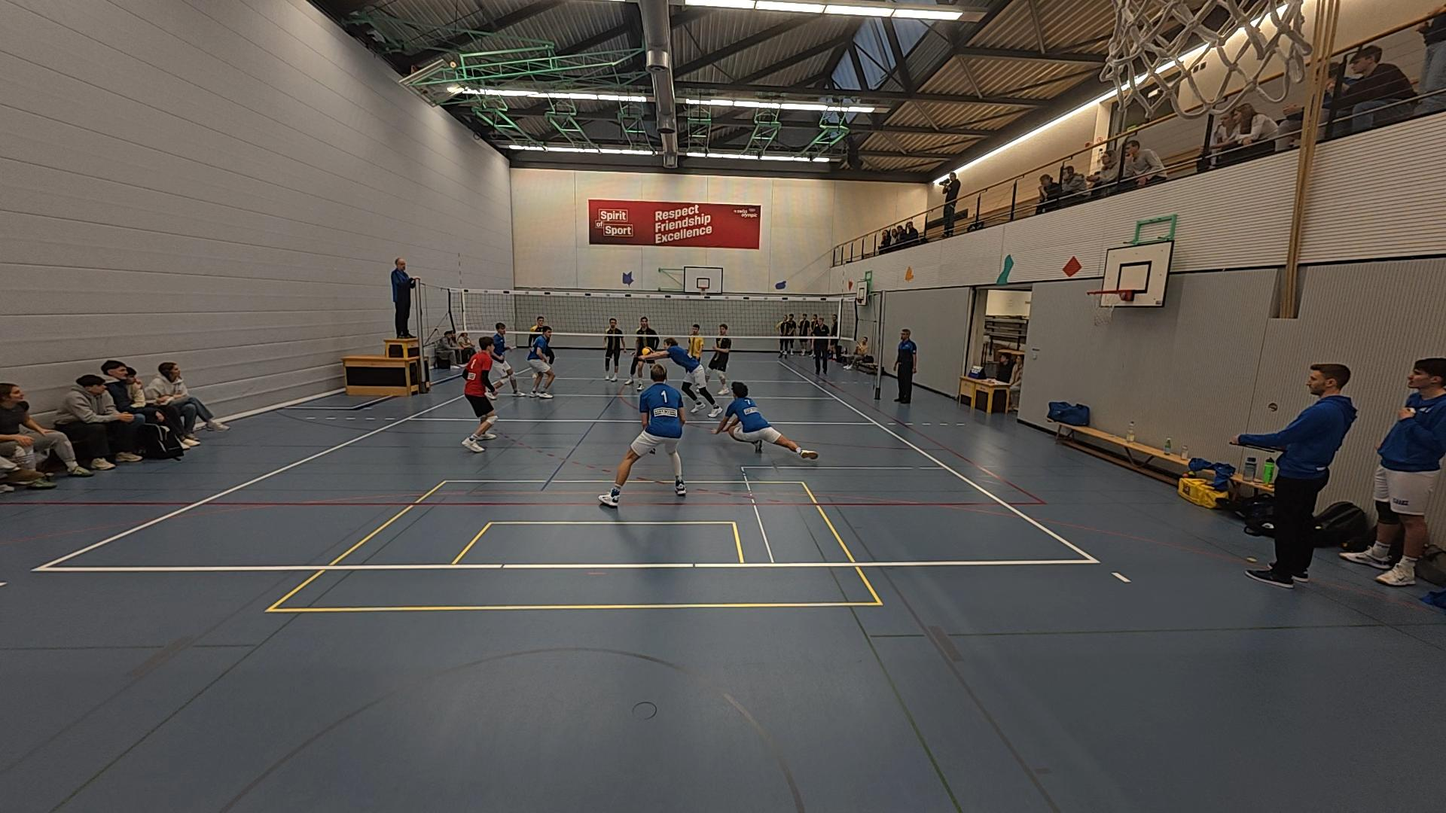difesa: (637, 336, 724, 417)
